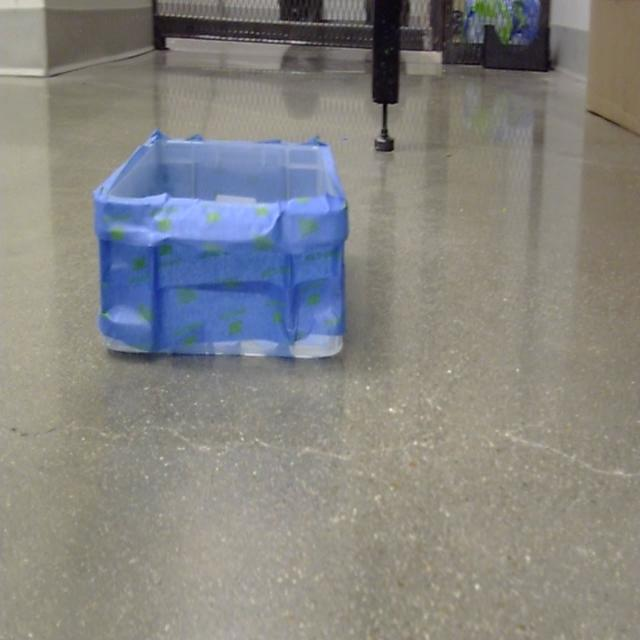bucket: (91, 132, 349, 364)
